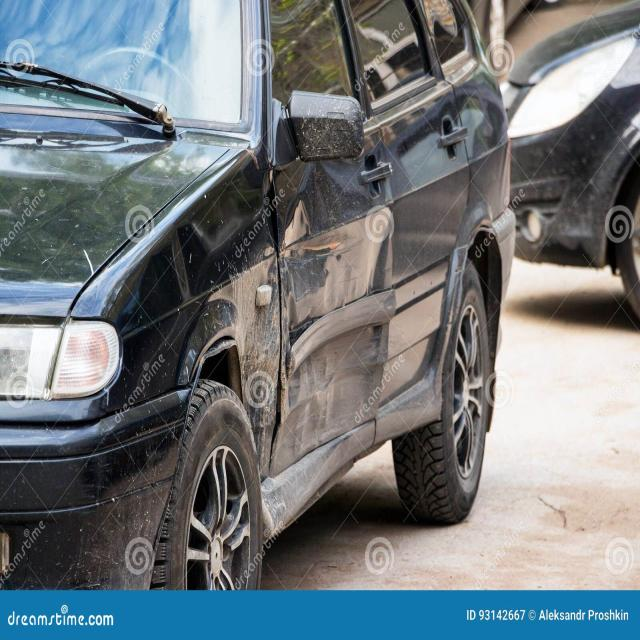crush: (97, 126, 393, 535)
